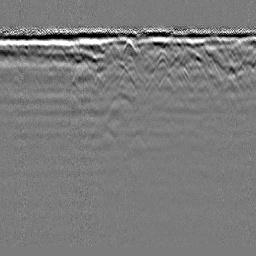cavity: (122, 39, 137, 54)
